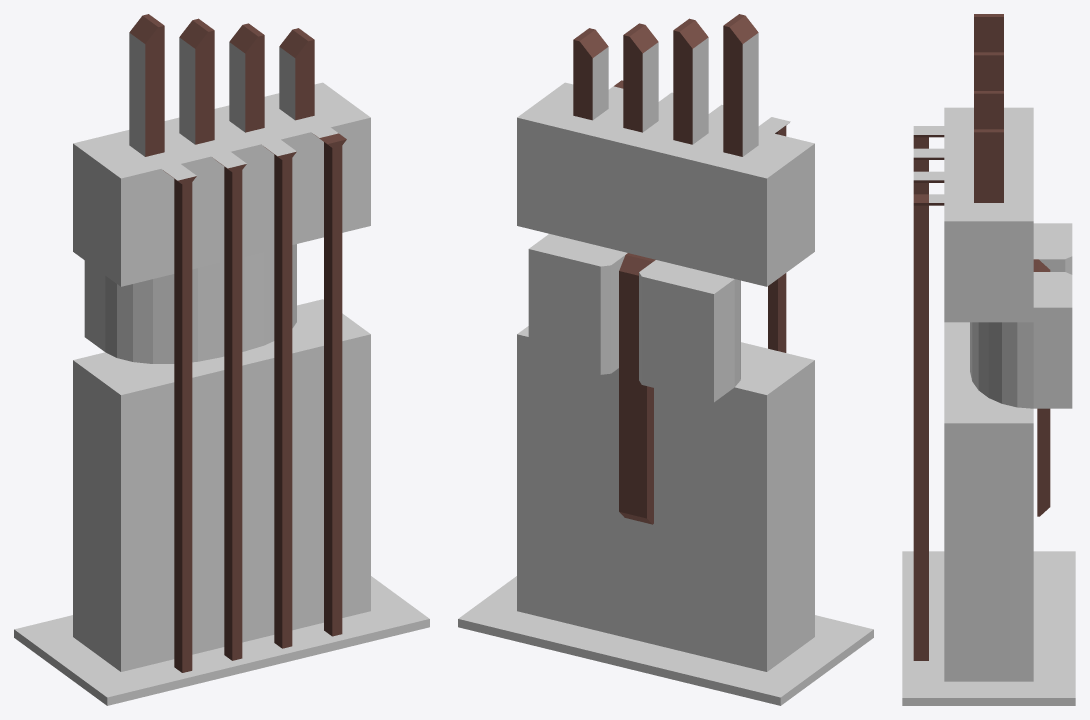
3 views of the same model, side by side, from view 1: azimuth 30°, elevation 25°; view 2: azimuth 150°, elevation 25°; view 3: azimuth 270°, elevation 25° (orthographic). The views are drawn at different scales.
Visible parts, largest first — view 1: 2x1A; view 2: 2x1A; view 3: 2x1A.
Boxes of the visible parts, x1,y1,x2,y2 form: 2x1A: [14, 14, 429, 705]; 2x1A: [458, 14, 873, 705]; 2x1A: [902, 14, 1075, 705].
Bounding box in the file's own units: 2 × 3.72 × 1.
